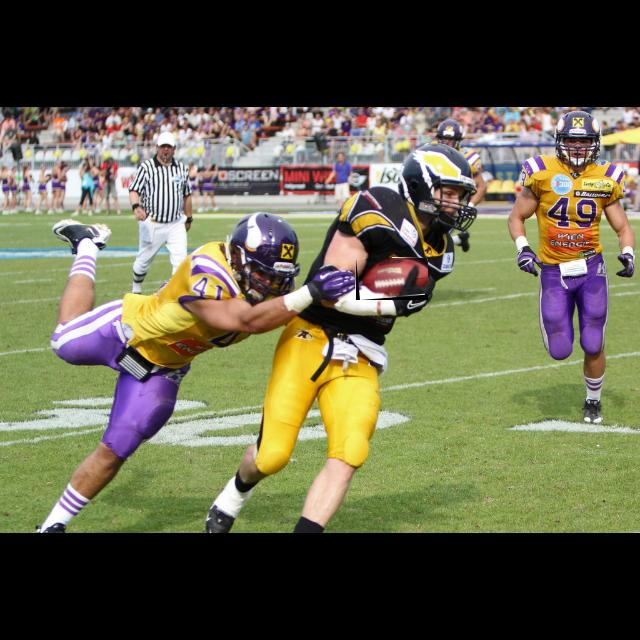Football: (356, 258, 428, 300)
